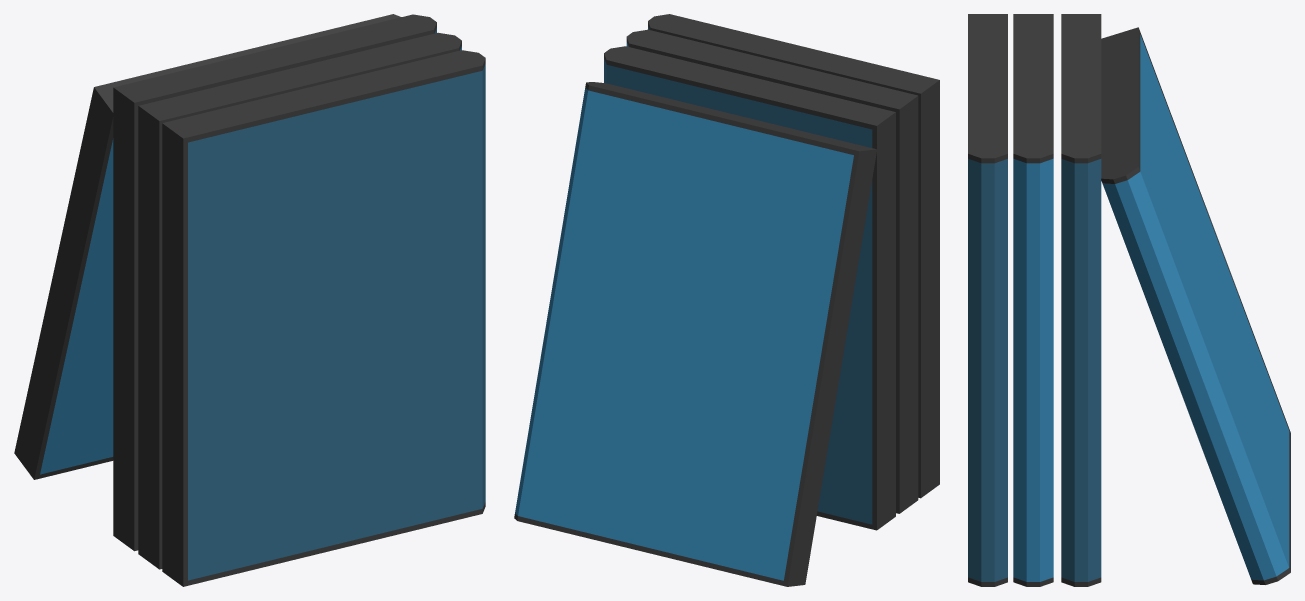
File: stack-of-dvds-by-poly-by-google-bGHkEaScn9q.glb
3 views of the same model, side by side, from view 1: azimuth 30°, elevation 25°; view 2: azimuth 150°, elevation 25°; view 3: azimuth 270°, elevation 25° (orthographic). The views are drawn at different scales.
Visible parts, largest first — view 1: DVDs; view 2: DVDs; view 3: DVDs.
Boxes of the visible parts, left/top/right/bottom form: DVDs: left=14, top=14, right=485, bottom=586; DVDs: left=514, top=14, right=939, bottom=586; DVDs: left=968, top=14, right=1290, bottom=586.
Bounding box in the file's own units: 51.26 × 71.3 × 48.45.
1 material, 1 textured.
